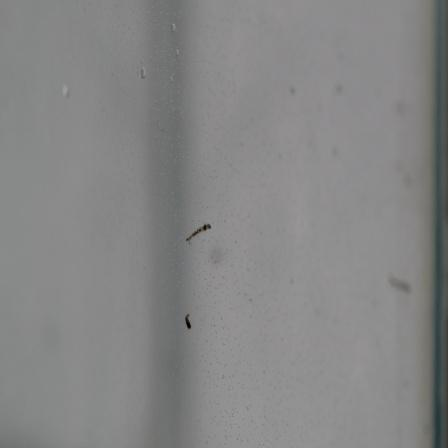Jentik-Nyamuk: (182, 218, 215, 247), (180, 309, 198, 333)
